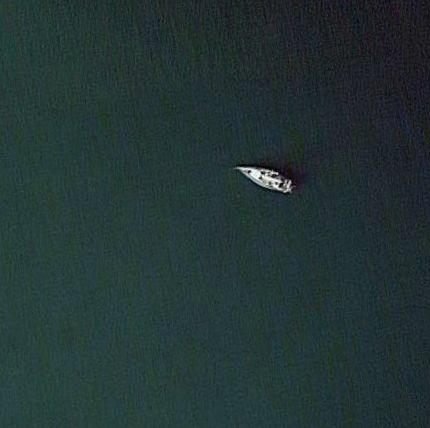Ships: (229, 161, 323, 199)
